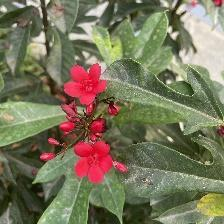jatropha: (64, 64, 111, 109), (73, 141, 113, 186)
